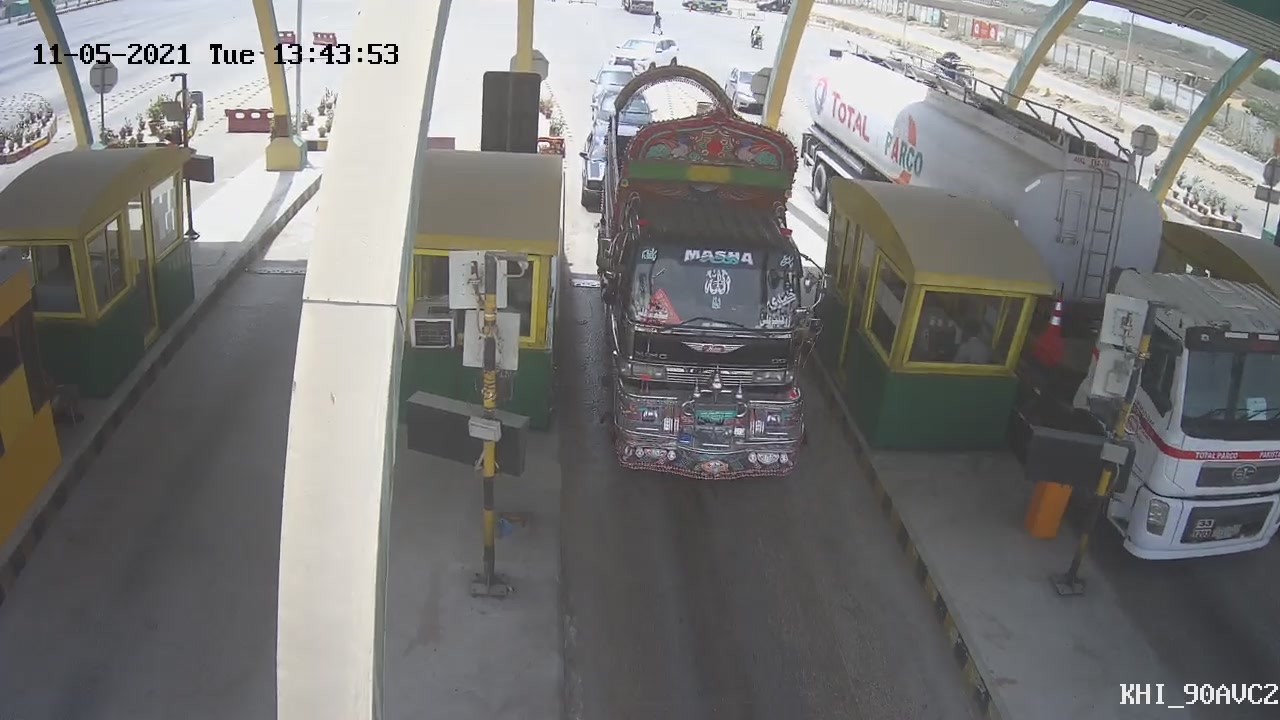F5: (597, 62, 834, 495)
